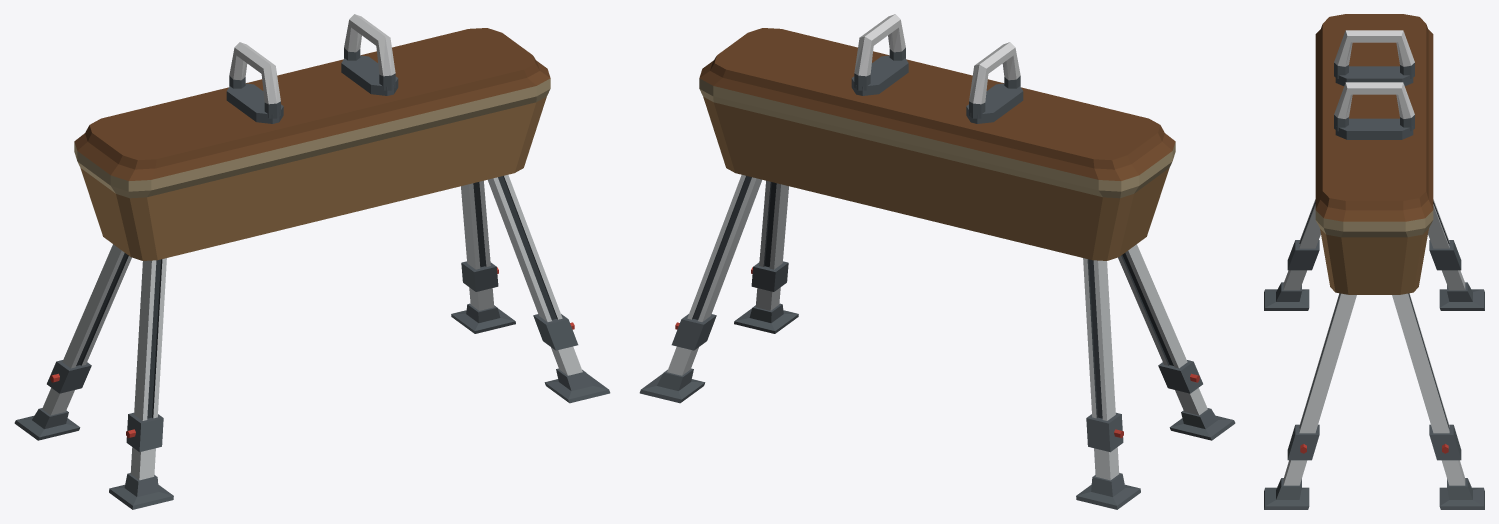
Rendered from vaulting-horse-c60494.glb.
3 renders of one model, left to right at view 1: azimuth 30°, elevation 25°; view 2: azimuth 150°, elevation 25°; view 3: azimuth 270°, elevation 25°, orthographic. The views are drawn at different scales.
Parts seen in each view (by area): view 1: horse-body, pommel-b, pommel-a; view 2: horse-body, pommel-b, pommel-a; view 3: horse-body, pommel-b, pommel-a.
Part boxes in pixels (<box>): horse-body: <box>14,28,610,509</box>; pommel-b: <box>341,14,398,95</box>; pommel-a: <box>226,42,283,123</box>; horse-body: <box>639,28,1235,509</box>; pommel-b: <box>851,14,908,95</box>; pommel-a: <box>966,42,1023,123</box>; horse-body: <box>1264,14,1484,509</box>; pommel-b: <box>1334,82,1414,139</box>; pommel-a: <box>1334,30,1414,85</box>.
Bounding box in the file's own units: 1.75 × 1.29 × 0.75.
